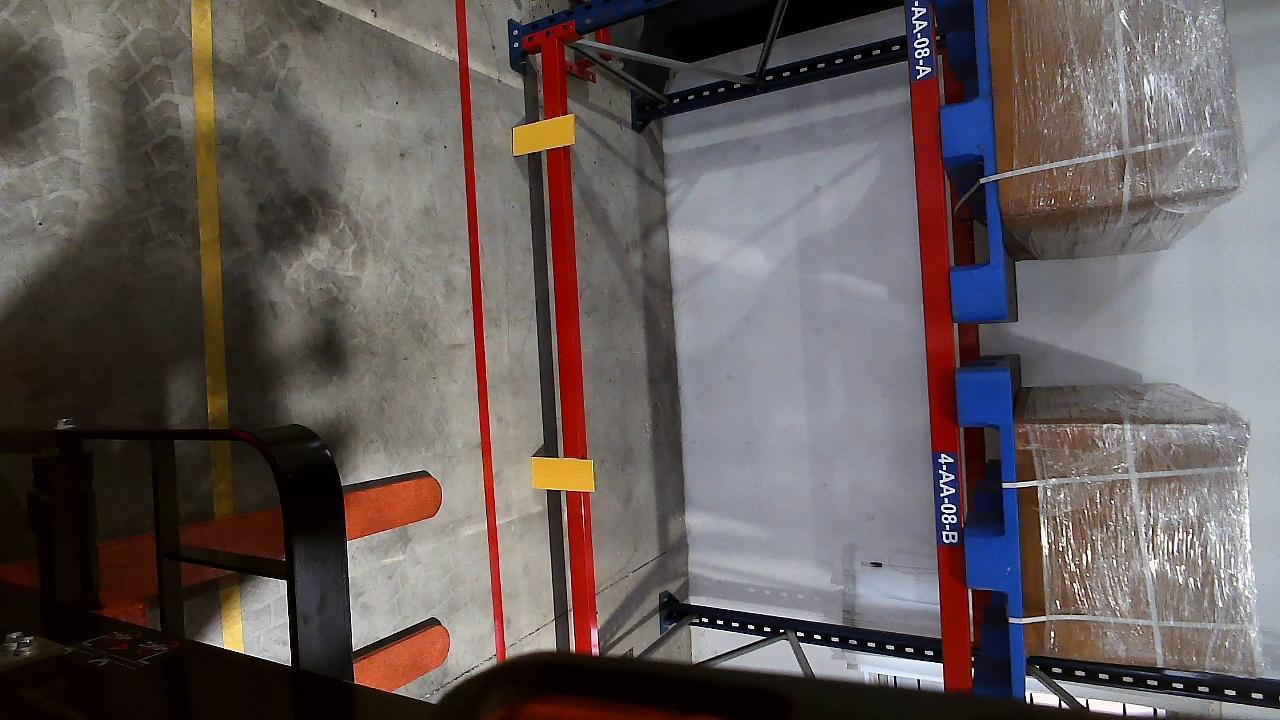h_rack: (899, 0, 976, 686), (543, 48, 585, 660)
orange_strip: (512, 114, 575, 155), (529, 457, 594, 492)
red_line: (458, 0, 512, 659)
small_pallet: (926, 0, 1011, 319), (955, 368, 1030, 679)
yellow_line: (188, 1, 230, 425)
